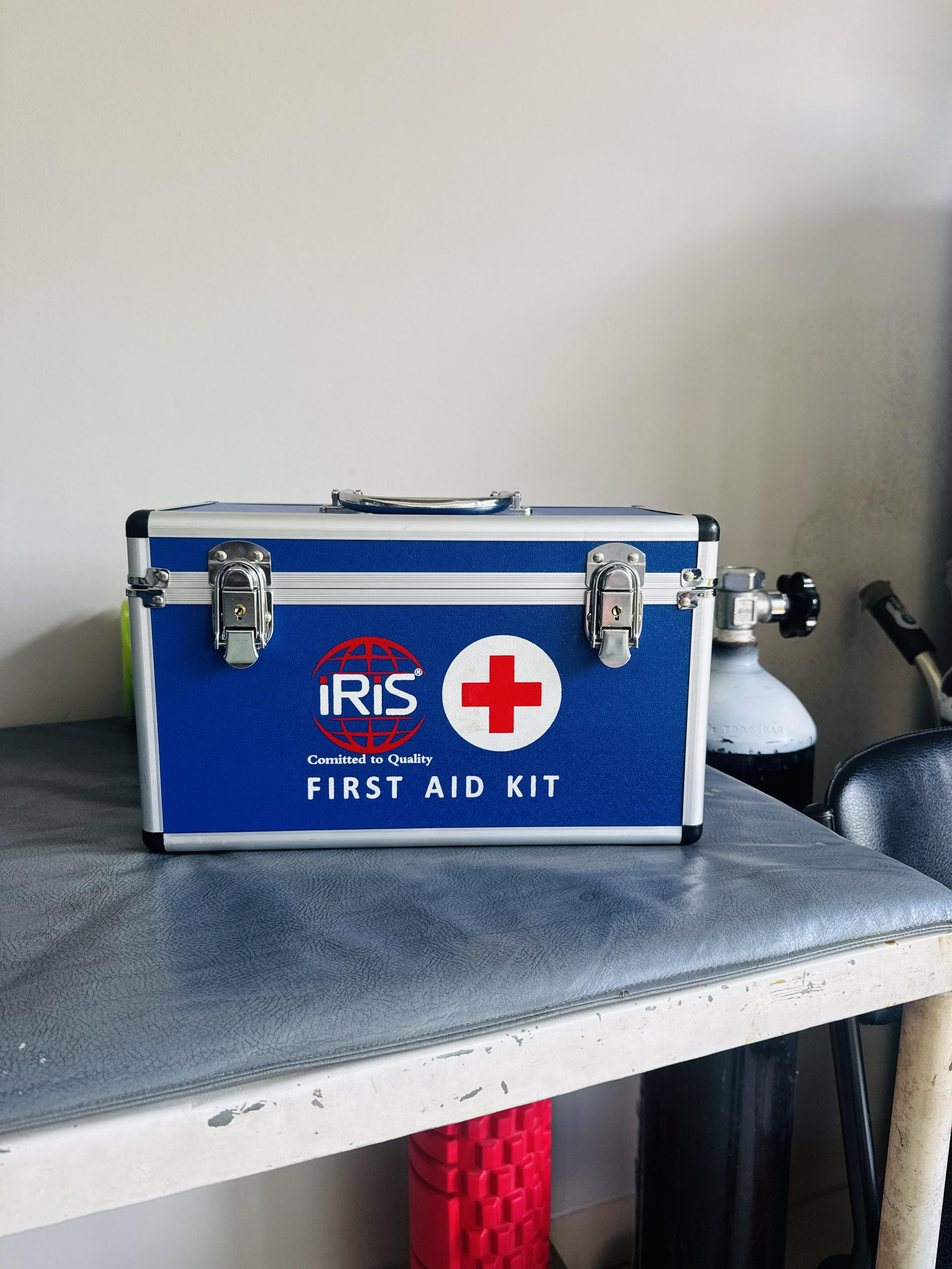FirstAidBox: (104, 462, 738, 870)
